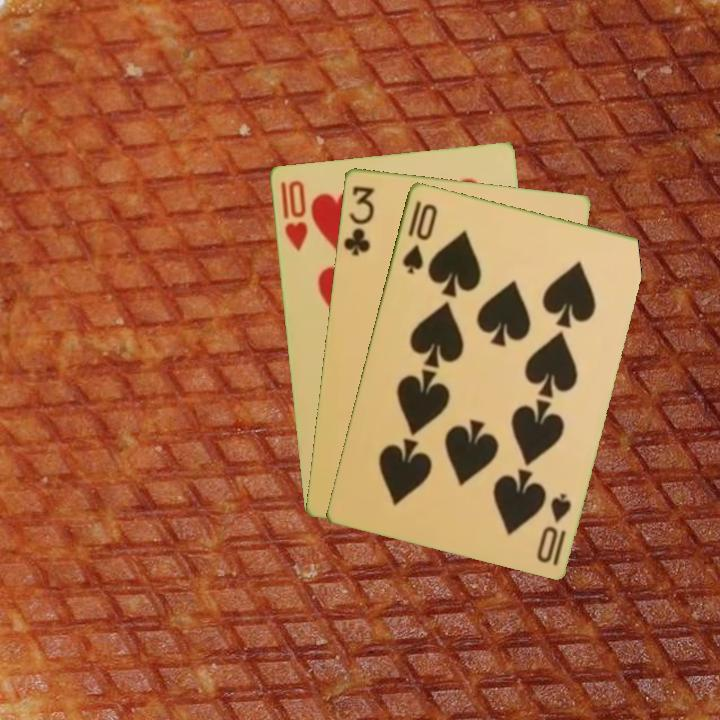10h: (276, 176, 310, 254)
10s: (532, 488, 574, 569), (398, 196, 440, 276)
3c: (339, 182, 377, 258)
